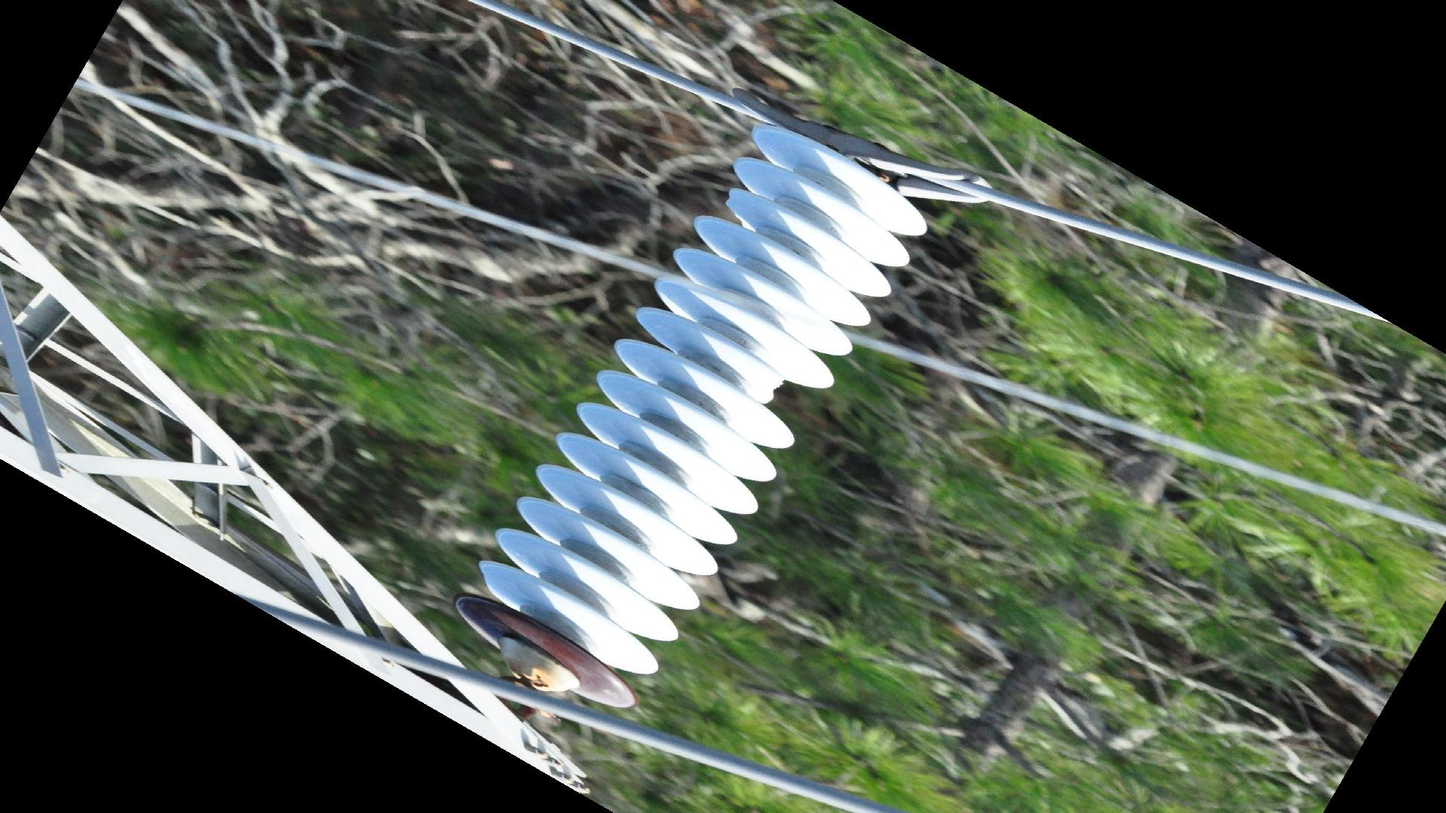insulator: (451, 113, 932, 717)
insulator_breakage: (744, 364, 798, 412)
